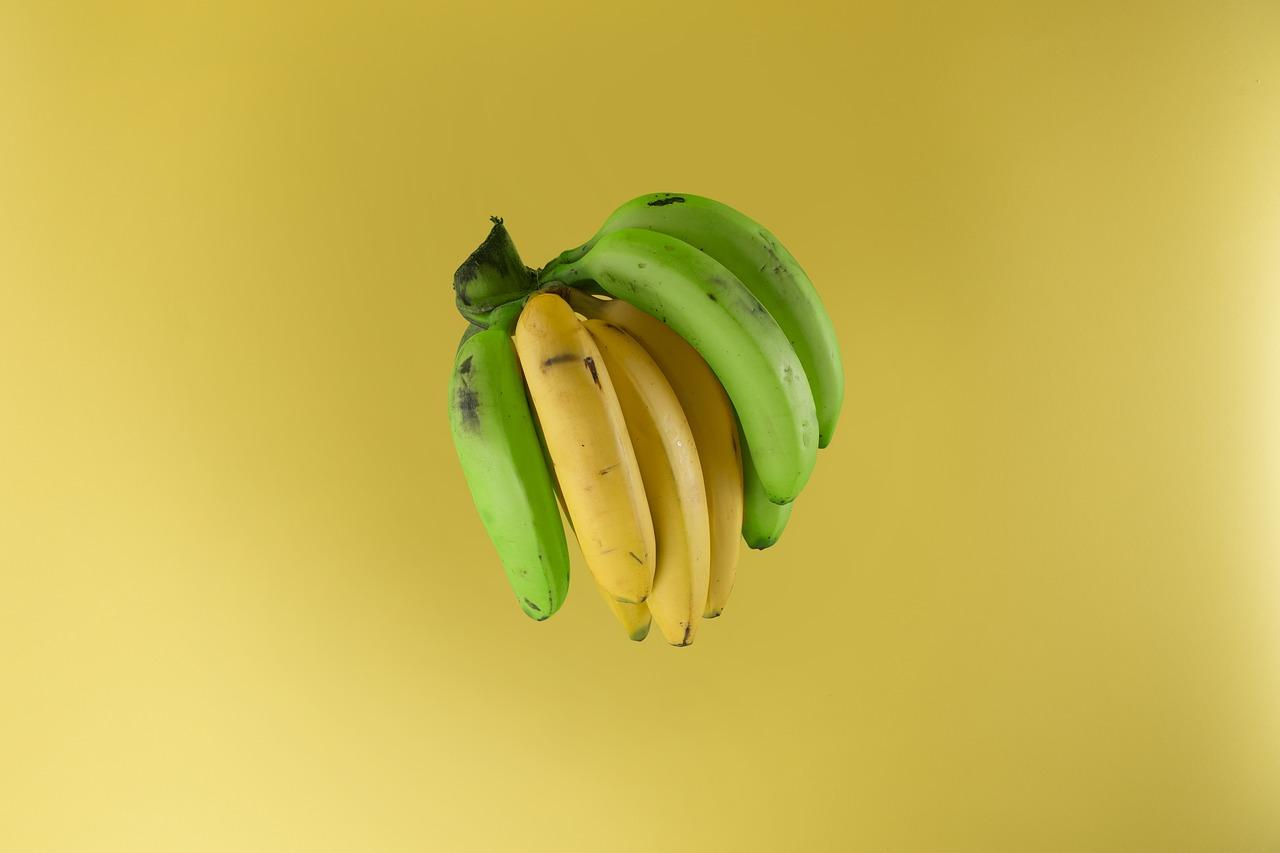banana: (392, 147, 850, 703)
